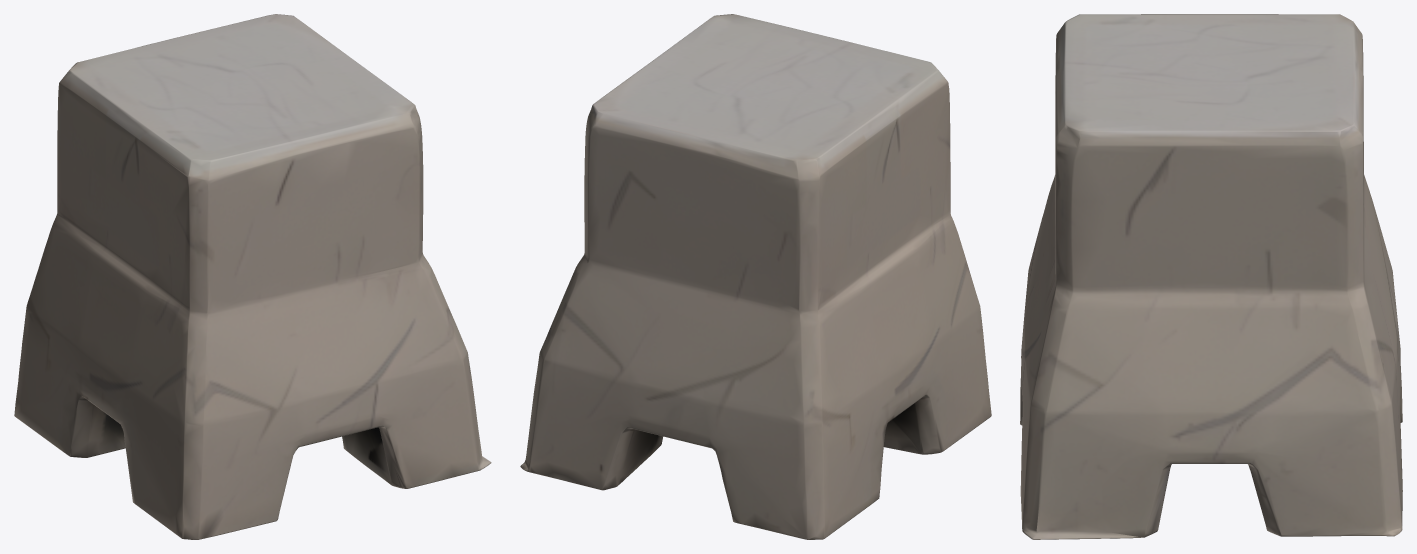
File: beton.fbx
3 renders of one model, left to right at view 1: azimuth 30°, elevation 25°; view 2: azimuth 150°, elevation 25°; view 3: azimuth 270°, elevation 25°, orthographic. The views are drawn at different scales.
Parts seen in each view (by area): view 1: beton; view 2: beton; view 3: beton.
Boxes of the visible parts, <box> form: beton: <box>14,14,491,539</box>; beton: <box>520,14,991,539</box>; beton: <box>1020,14,1402,539</box>.
Bounding box in the file's own units: 19.46 × 21.36 × 19.43.
Materials: 1 (1 with a texture image).
